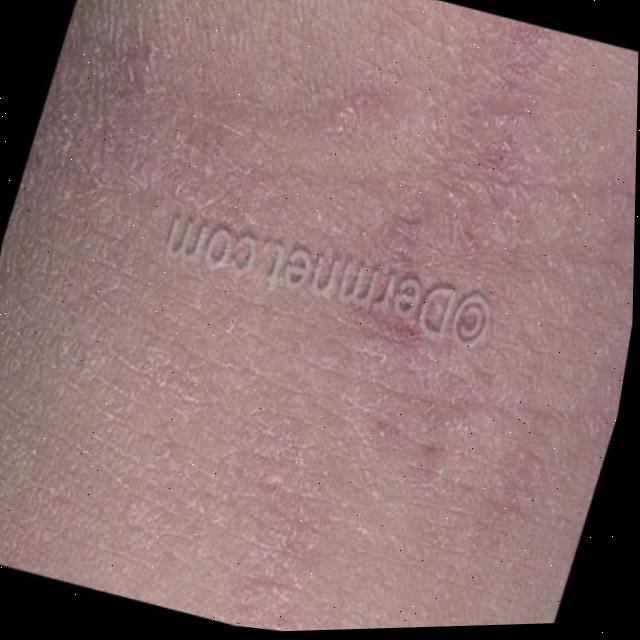Eczema: (87, 46, 639, 503)
